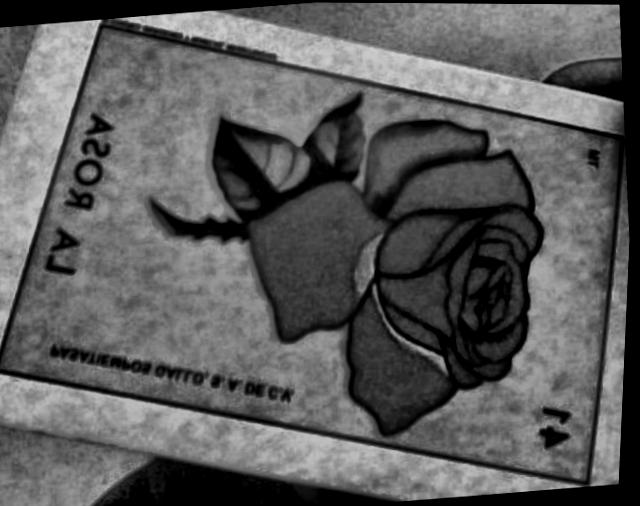La Rosa: (0, 27, 624, 481)
